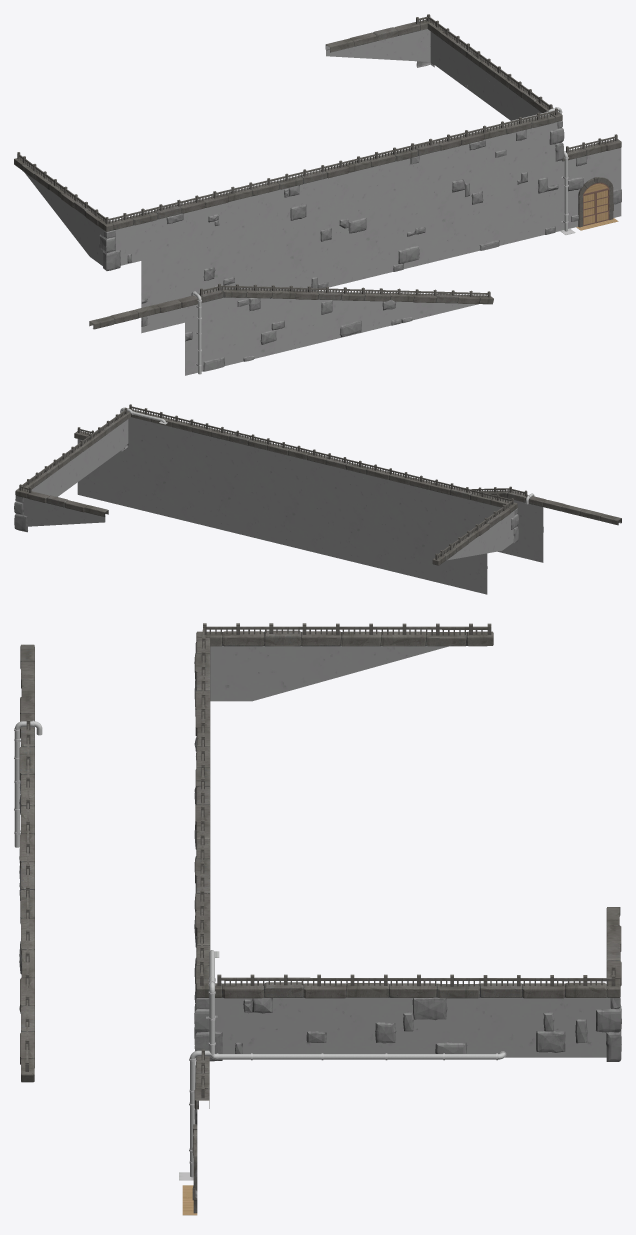
The model's file is SM_ENV_KNVLLG_Wall_08.fbx.
3 renders of one model, top to bottom at view 1: azimuth 30°, elevation 25°; view 2: azimuth 150°, elevation 25°; view 3: azimuth 270°, elevation 25°, orthographic. The views are drawn at different scales.
Parts seen in each view (by area): view 1: SM_ENV_KNVLLG_Wall_08.mo; view 2: SM_ENV_KNVLLG_Wall_08.mo; view 3: SM_ENV_KNVLLG_Wall_08.mo.
Part boxes in pixels (<box>): SM_ENV_KNVLLG_Wall_08.mo: <box>14,14,621,375</box>; SM_ENV_KNVLLG_Wall_08.mo: <box>14,404,621,594</box>; SM_ENV_KNVLLG_Wall_08.mo: <box>14,623,621,1215</box>.
Size of the model in its own units: 12031 by 2469 by 6773.
